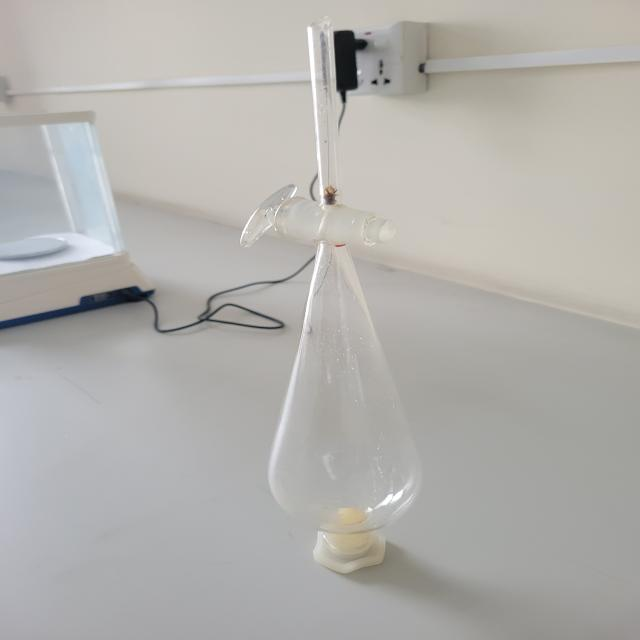Separating_Funnel: (191, 12, 453, 604)
